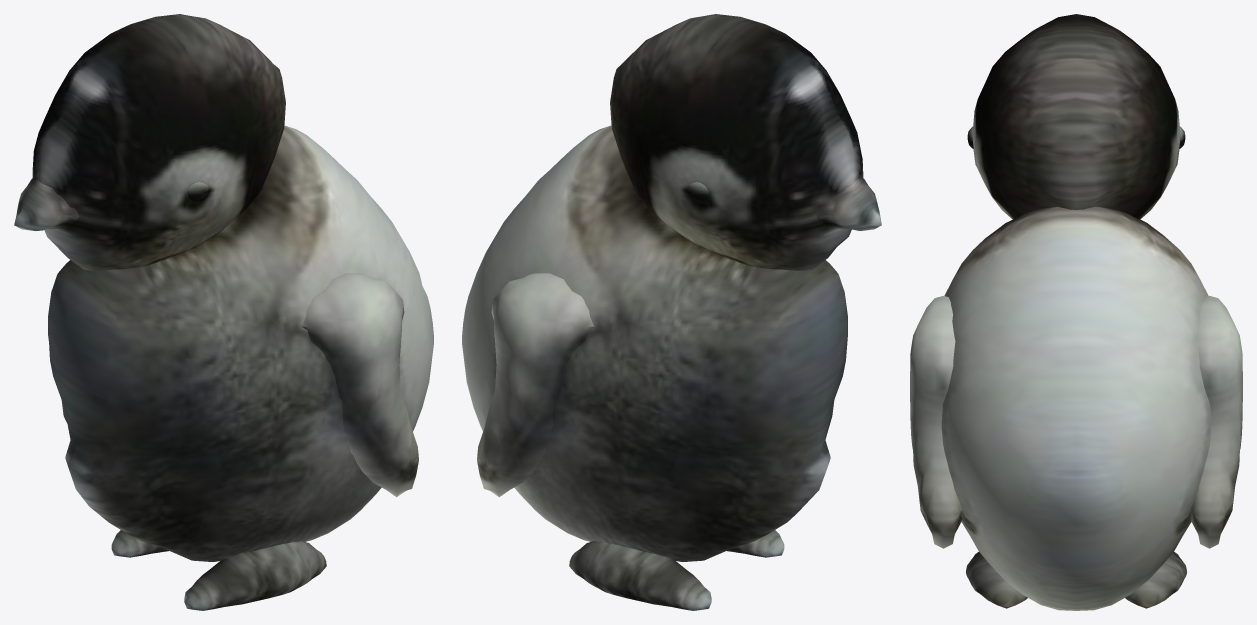
File: penguin_d76980fa.glb
3 views of the same model, side by side, from view 1: azimuth 30°, elevation 25°; view 2: azimuth 150°, elevation 25°; view 3: azimuth 270°, elevation 25° (orthographic). The views are drawn at different scales.
Parts seen in each view (by area): view 1: Object_2; view 2: Object_2; view 3: Object_2.
Part boxes in pixels (x1,y1,x2,y2): Object_2: (14,14,433,610); Object_2: (462,14,881,610); Object_2: (910,14,1242,610).
Size of the model in its own units: 0.625 by 0.8076 by 0.4573.
Materials: 1 (1 with a texture image).
